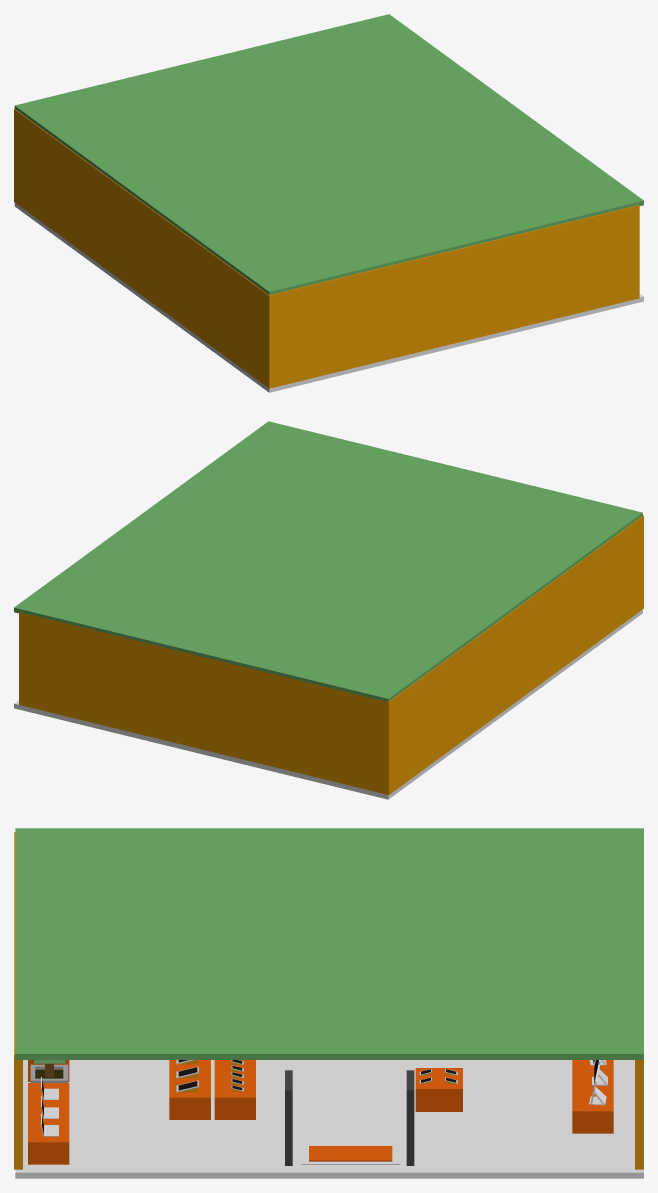
File: Citrus.fbx
3 renders of one model, top to bottom at view 1: azimuth 30°, elevation 25°; view 2: azimuth 150°, elevation 25°; view 3: azimuth 270°, elevation 25°, orthographic. The views are drawn at different scales.
Parts seen in each view (by area): view 1: Phone_Store_Ceiling, Phone_Store_Walls, Phone_Store_Floor; view 2: Phone_Store_Ceiling, Phone_Store_Walls, Phone_Store_Floor; view 3: Phone_Store_Ceiling, Phone_Store_Floor, Laptop_Display, Computer_Show, Phone_Store_Walls, Phone_Show_Big, Tablet_Show, Phone_Display, Mat_Part, Plant1, Theft_Scanners, Welcome_Mat (+1 smaller).
Part boxes in pixels (x1,y1,x2,y2): Phone_Store_Ceiling: (14, 14, 643, 294); Phone_Store_Walls: (14, 109, 639, 388); Phone_Store_Floor: (14, 202, 643, 392); Phone_Store_Ceiling: (14, 421, 642, 701); Phone_Store_Walls: (19, 515, 643, 794); Phone_Store_Floor: (14, 609, 642, 799); Phone_Store_Ceiling: (15, 828, 643, 1059); Phone_Store_Floor: (15, 1060, 643, 1178); Laptop_Display: (28, 1083, 69, 1164); Computer_Show: (572, 1060, 613, 1133); Phone_Store_Walls: (14, 832, 643, 1169); Phone_Show_Big: (214, 1060, 255, 1119); Tablet_Show: (169, 1060, 210, 1119); Phone_Display: (415, 1068, 462, 1111); Mat_Part: (309, 1146, 392, 1161); Plant1: (30, 1060, 68, 1082); Theft_Scanners: (406, 1070, 414, 1165); Welcome_Mat: (301, 1144, 400, 1164).
Size of the model in its own units: 101 by 25.83 by 118.
